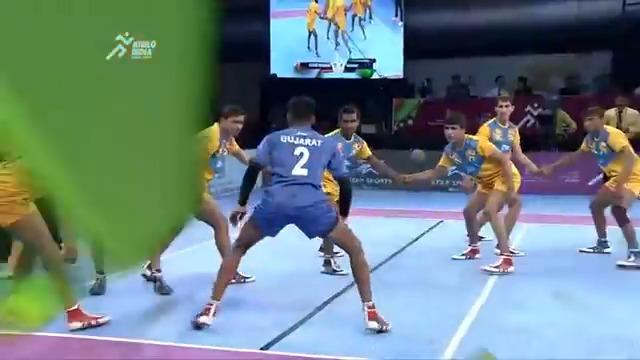Player: (140, 103, 258, 295), (0, 150, 111, 332), (396, 110, 518, 274), (532, 104, 639, 268), (317, 103, 405, 275), (470, 92, 541, 257), (304, 0, 324, 57)
Raider: (190, 94, 392, 334)
